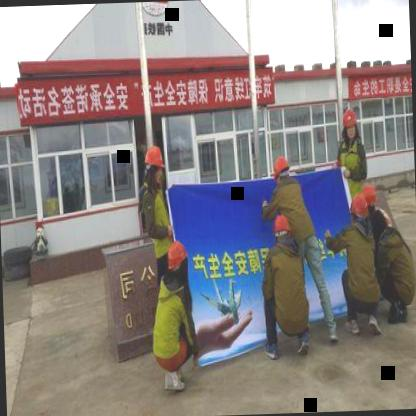helmet: (142, 146, 166, 188), (166, 242, 188, 277), (362, 182, 380, 216), (348, 195, 368, 223), (342, 110, 360, 141), (273, 156, 291, 184), (274, 216, 292, 242)
